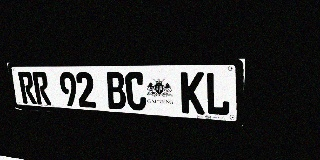2: (75, 72, 96, 108)
9: (58, 72, 79, 107)
B: (105, 72, 127, 110)
C: (124, 72, 147, 111)
K: (180, 72, 205, 115)
L: (205, 72, 231, 116)
R: (32, 72, 51, 105), (18, 72, 37, 104)
